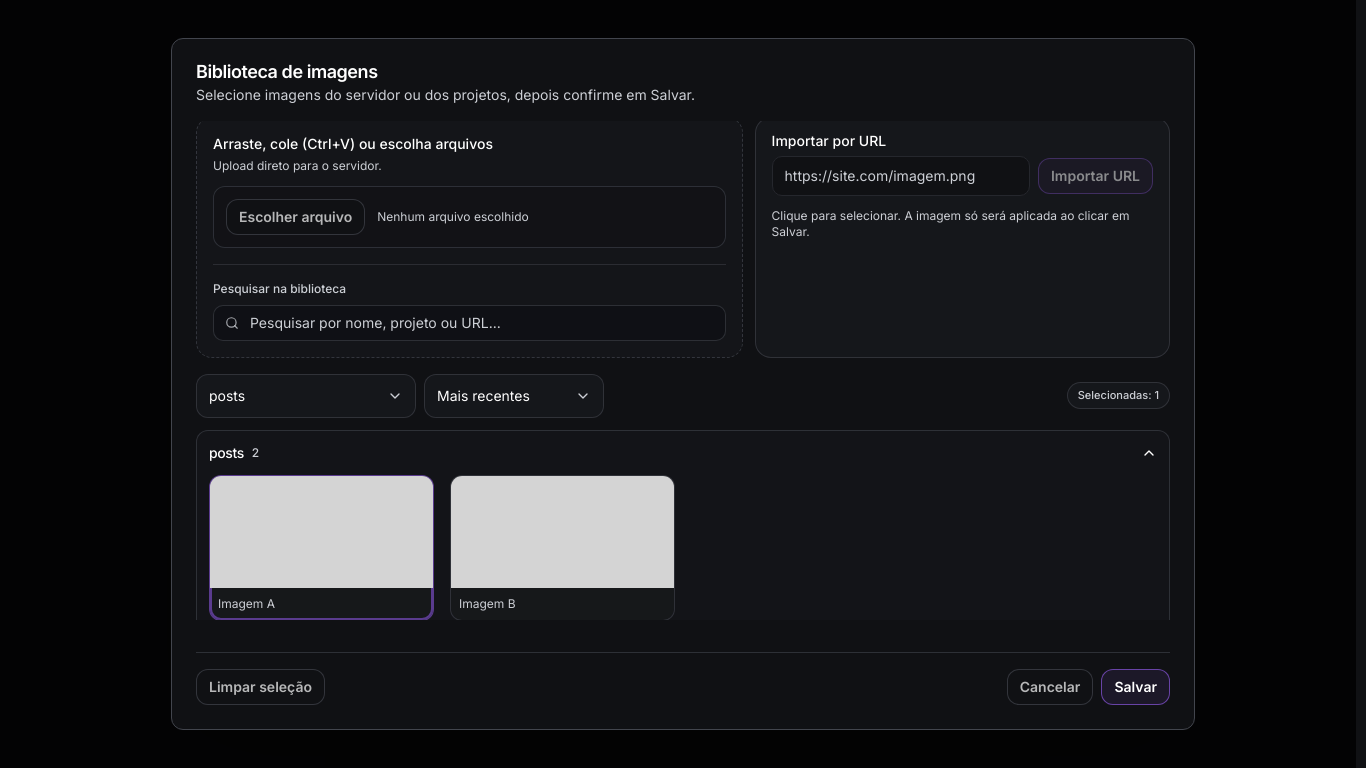
Test case: ImageLibraryDialog selection state › permite desselecionar item pre-selecionado
(page scrolled)
Expected: the text "Selecionadas: 1" is shown, [1067,382,1170,409]
Click the button "Imagem A": [322, 548] box [209,475,434,621]
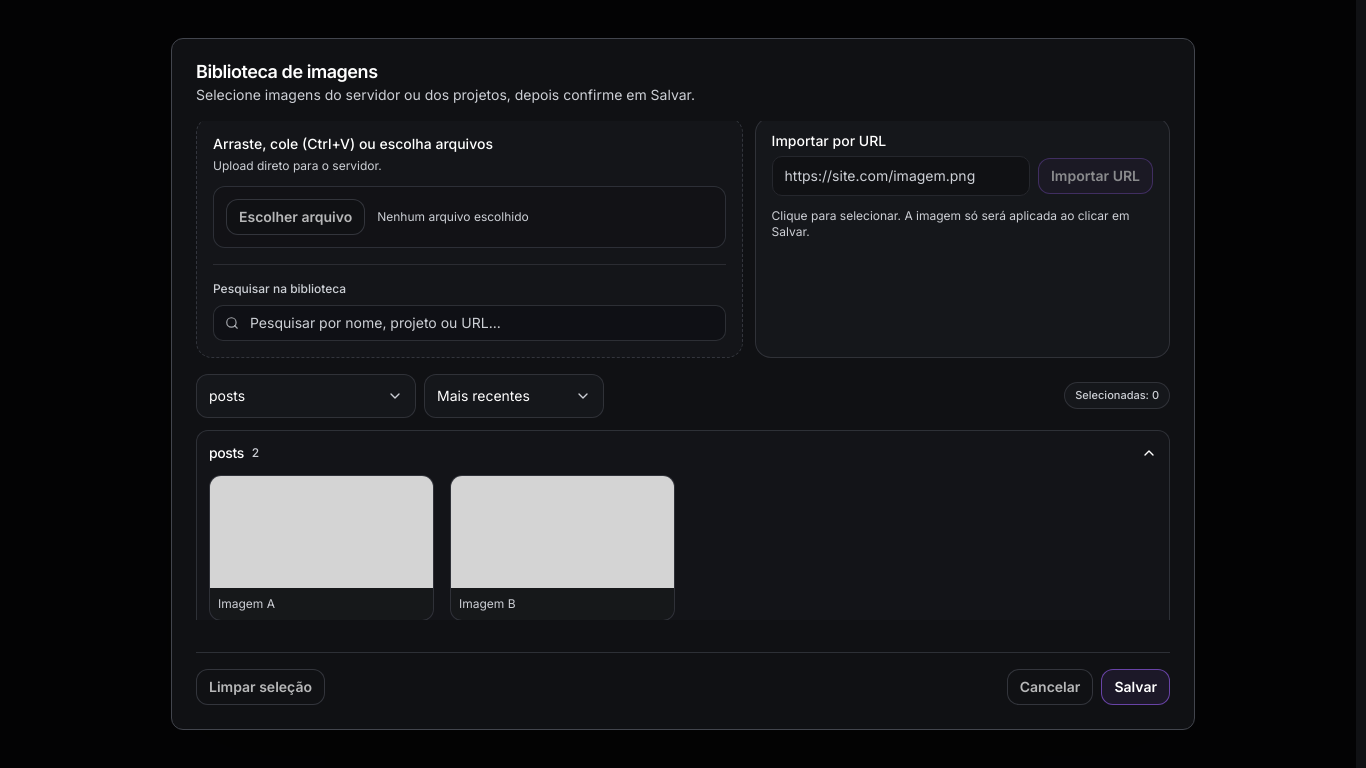
Result: the text "Selecionadas: 0" is shown at [1064,382,1170,409]
